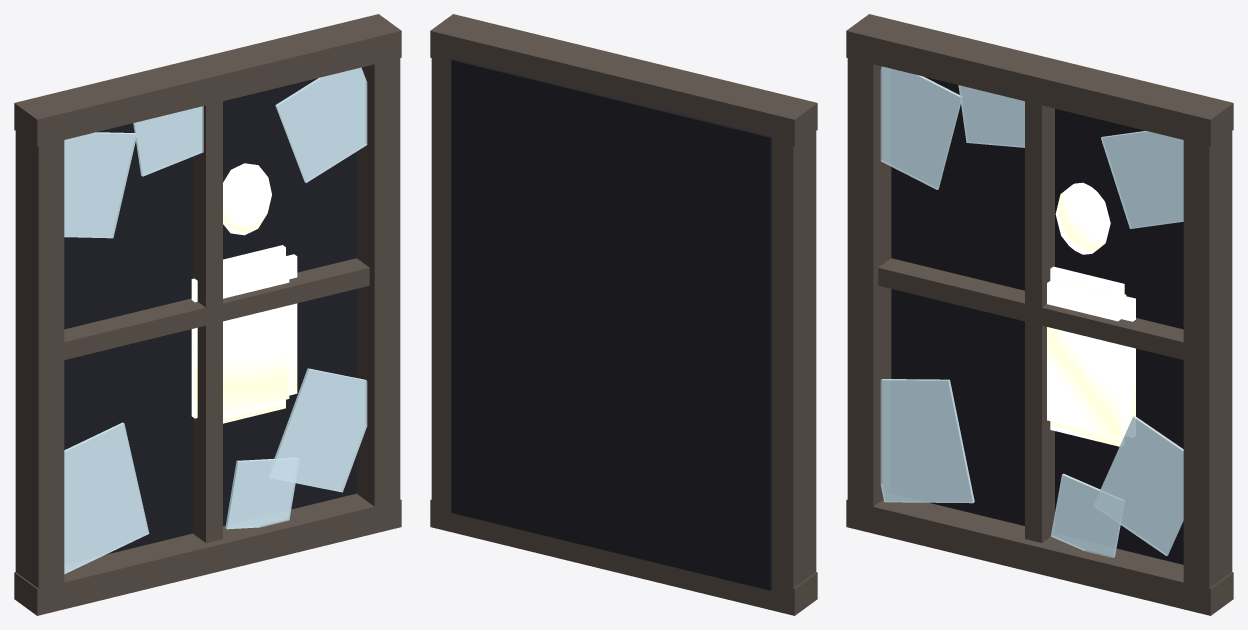
File: anom_cracked_window.glb
The picture shows the model from 3 angles, left to right: view 1: azimuth 30°, elevation 25°; view 2: azimuth 150°, elevation 25°; view 3: azimuth 330°, elevation 25°; orthographic projection.
Visible parts, largest first — view 1: AbyssBack, FrameLeft, FrameRight, FrameTop, FrameBottom, MullionV, WatcherTorso, GlassShard_2, GlassShard_3, MullionH, GlassShard_1, GlassShard_0 (+3 smaller); view 2: AbyssBack, FrameLeft, FrameTop, FrameRight, FrameBottom; view 3: AbyssBack, FrameRight, FrameTop, FrameLeft, FrameBottom, WatcherTorso, MullionV, GlassShard_2, MullionH, GlassShard_3, GlassShard_0, GlassShard_1 (+3 smaller).
Boxes of the visible parts, box(x1,y1,x2,y2) form: AbyssBack: box(64, 78, 356, 554); FrameLeft: box(15, 130, 64, 600); FrameRight: box(356, 47, 400, 518); FrameTop: box(14, 14, 401, 146); FrameBottom: box(14, 493, 401, 615); MullionV: box(193, 101, 222, 542); WatcherTorso: box(191, 245, 297, 423); GlassShard_2: box(64, 422, 149, 574); GlassShard_3: box(268, 368, 367, 492); MullionH: box(64, 258, 369, 359); GlassShard_1: box(275, 67, 367, 182); GlassShard_0: box(64, 132, 137, 238); AbyssBack: box(451, 59, 771, 590); FrameLeft: box(767, 129, 816, 600); FrameTop: box(430, 14, 817, 146); FrameRight: box(431, 48, 457, 518); FrameBottom: box(430, 499, 817, 615); AbyssBack: box(891, 76, 1183, 564); FrameRight: box(1183, 129, 1232, 600); FrameTop: box(846, 14, 1233, 146); FrameLeft: box(847, 47, 891, 518); FrameBottom: box(846, 499, 1233, 615); WatcherTorso: box(1047, 266, 1135, 446); MullionV: box(1025, 101, 1054, 542); GlassShard_2: box(880, 379, 974, 503); MullionH: box(878, 258, 1183, 359); GlassShard_3: box(1093, 415, 1183, 555); GlassShard_0: box(880, 66, 961, 189); GlassShard_1: box(1101, 131, 1183, 228).
Bounding box in the file's own units: 1.28 × 1.67 × 0.15.
